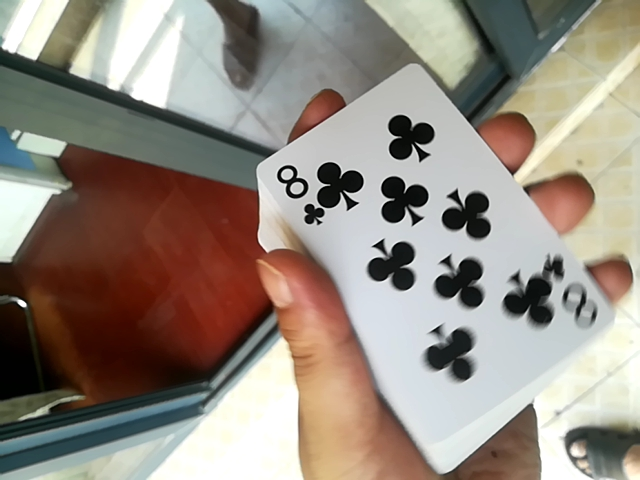mh 8: (224, 13, 621, 466)
